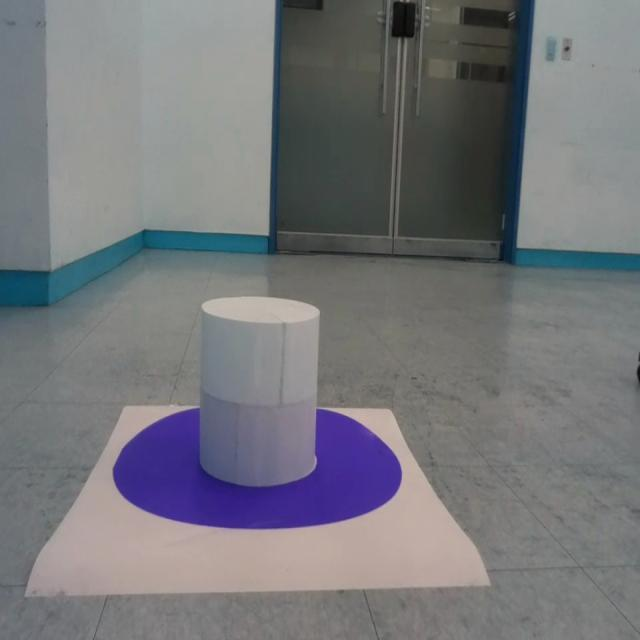cylinder: (198, 296, 322, 486)
